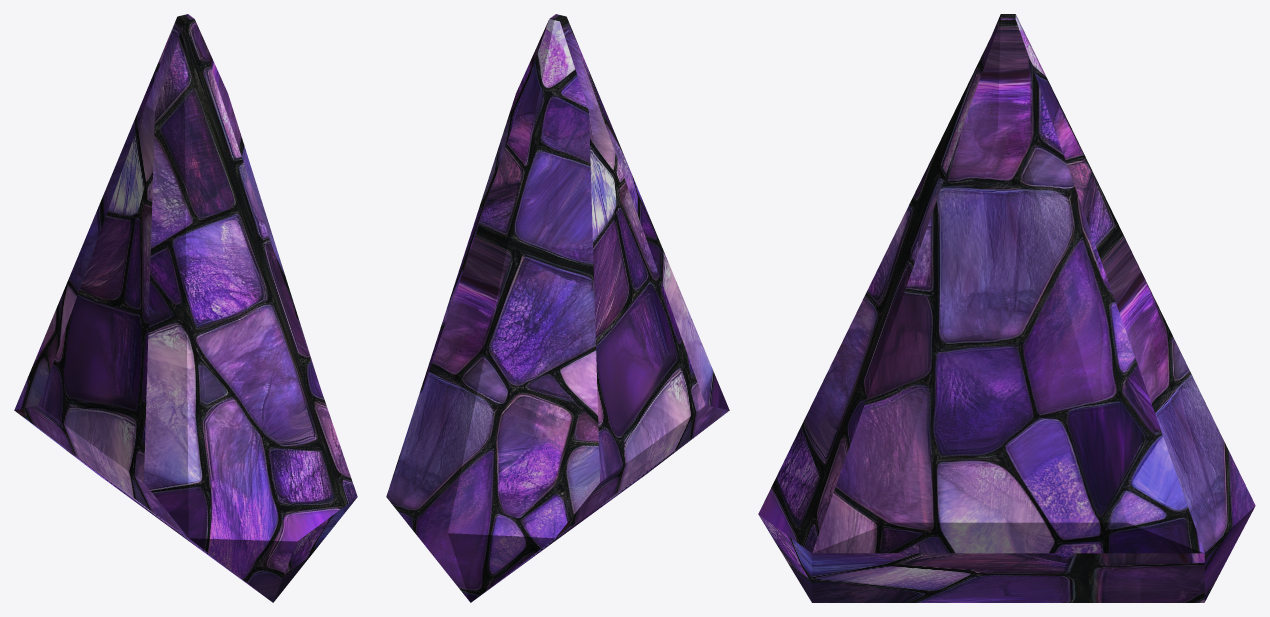
The model's file is gemstone4Purple.glb.
3 views of the same model, side by side, from view 1: azimuth 30°, elevation 25°; view 2: azimuth 150°, elevation 25°; view 3: azimuth 270°, elevation 25° (orthographic). The views are drawn at different scales.
Parts seen in each view (by area): view 1: gemstone3; view 2: gemstone3; view 3: gemstone3.
Part boxes in pixels (<box>): gemstone3: <box>14,14,357,602</box>; gemstone3: <box>386,14,729,602</box>; gemstone3: <box>758,14,1255,602</box>.
Size of the model in its own units: 0.5 by 1.3 by 1.
Materials: 1 (1 with a texture image).
